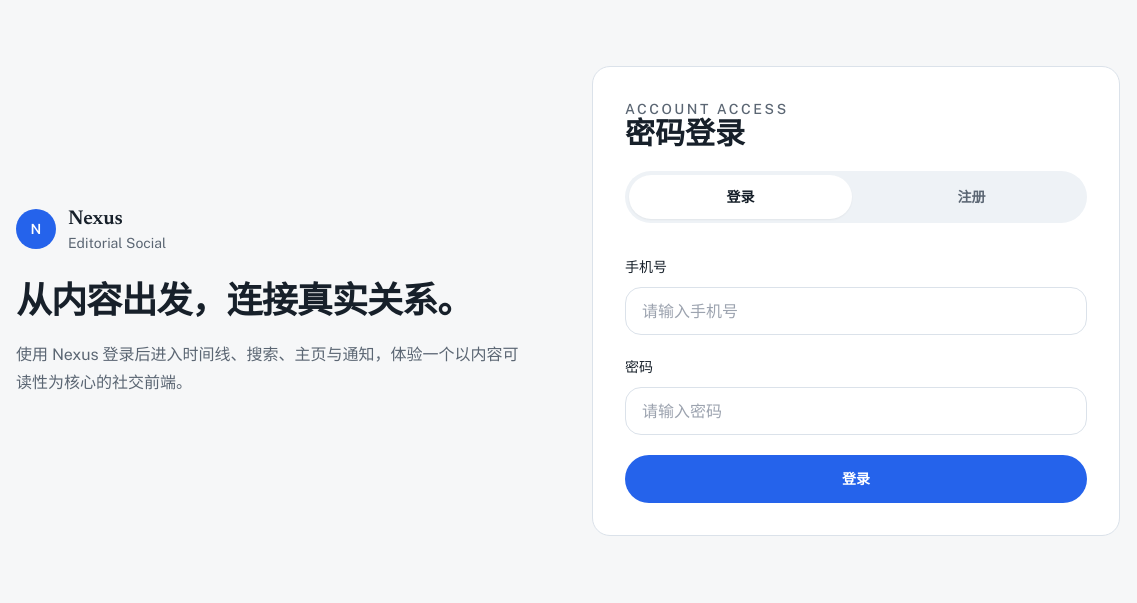
Test: submits register form in register mode
Step 1. Click the button with test id "auth-mode-register" → (972, 197), box [860, 175, 1083, 219]
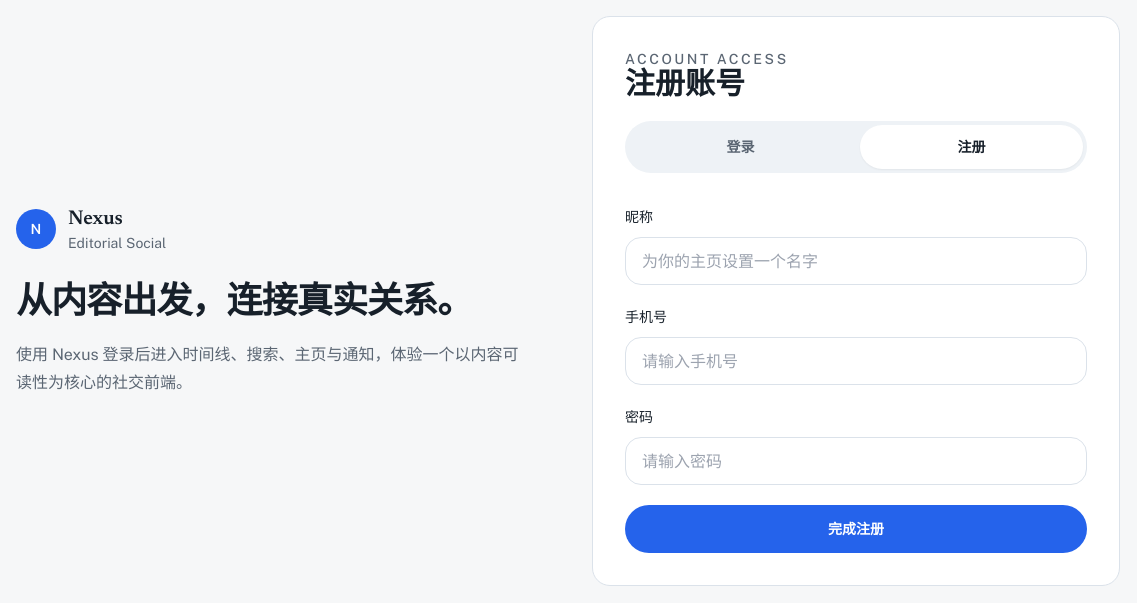
Step 2. Type "Nexus New" into the field with test id "register-nickname-input" → (856, 261), box [625, 237, 1087, 285]
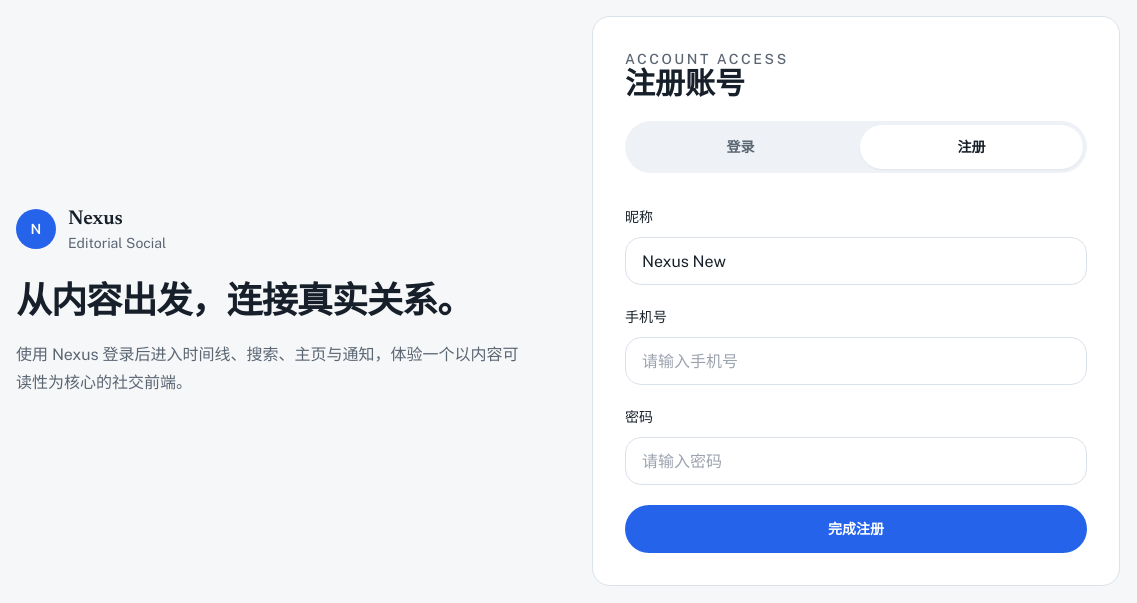
Step 3. Type "13800138000" into the field with test id "phone-input" → (856, 361), box [625, 337, 1087, 385]
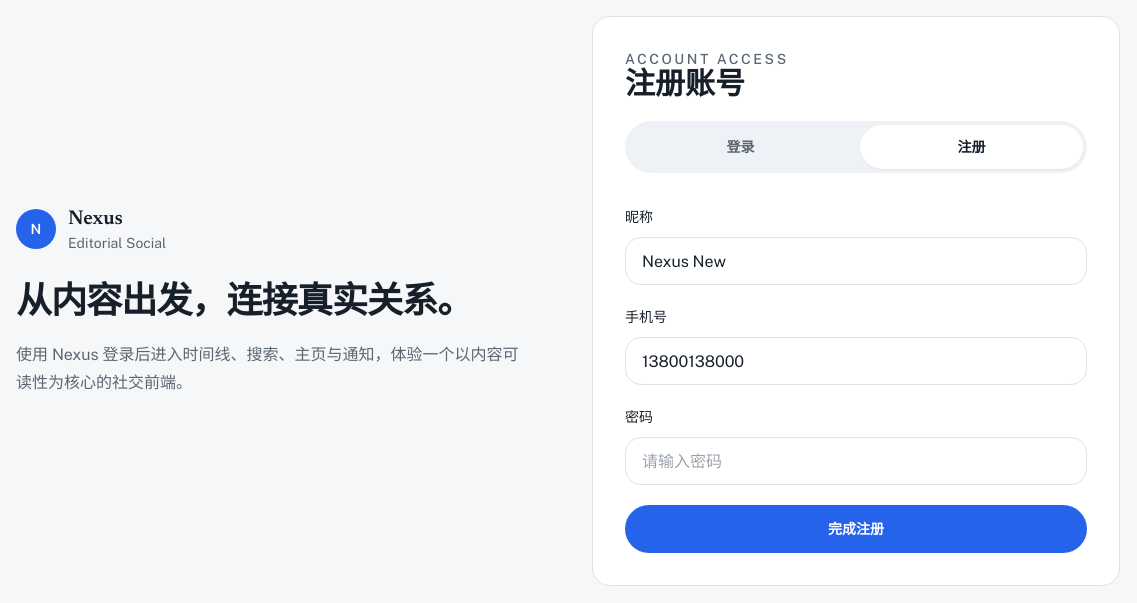
Step 4. Type "secret123" into the password field with test id "password-input" → (856, 461), box [625, 437, 1087, 485]
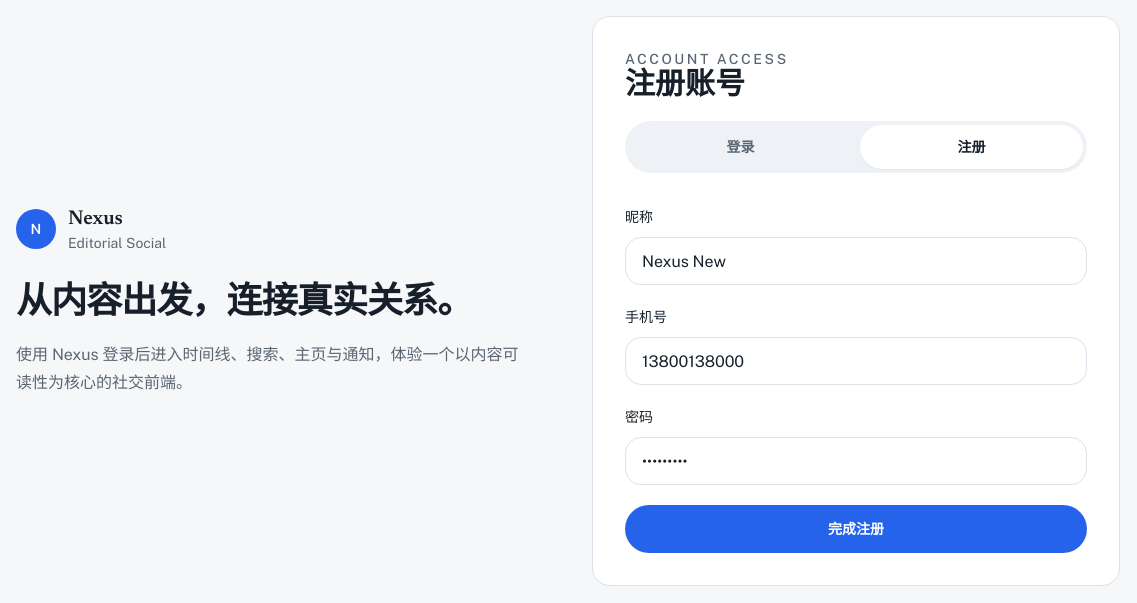
Step 5. Submit the form, box [625, 205, 1087, 553]
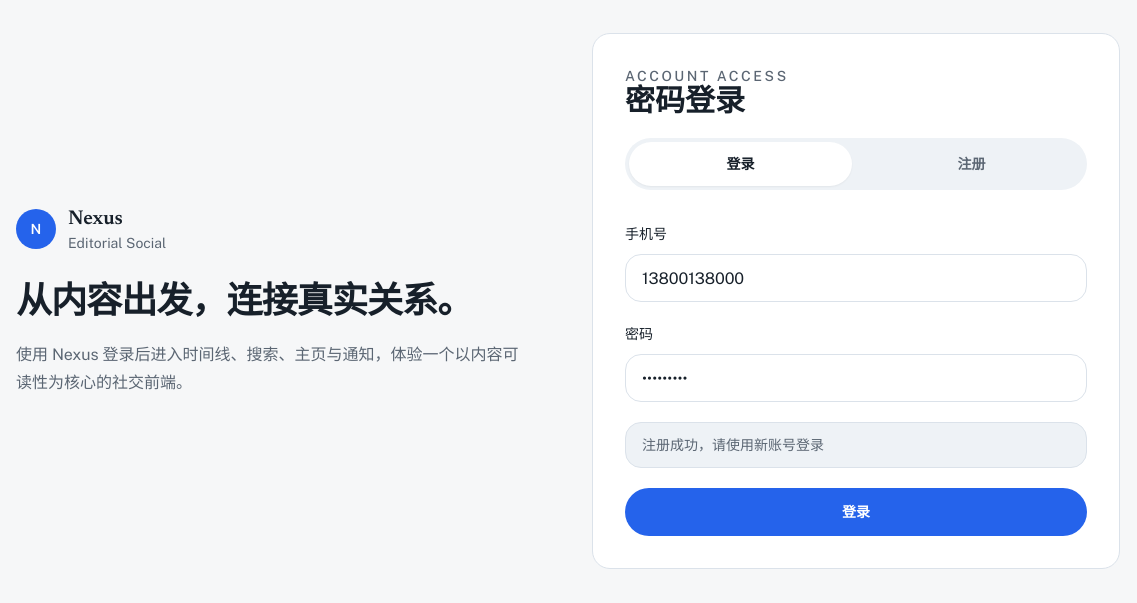
Now the text "注册成功" is shown, box [642, 437, 824, 453]
